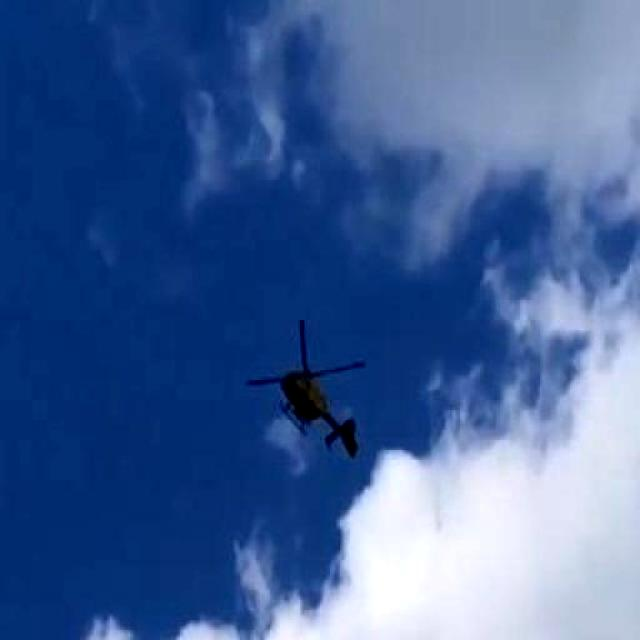drone: (220, 289, 388, 495)
